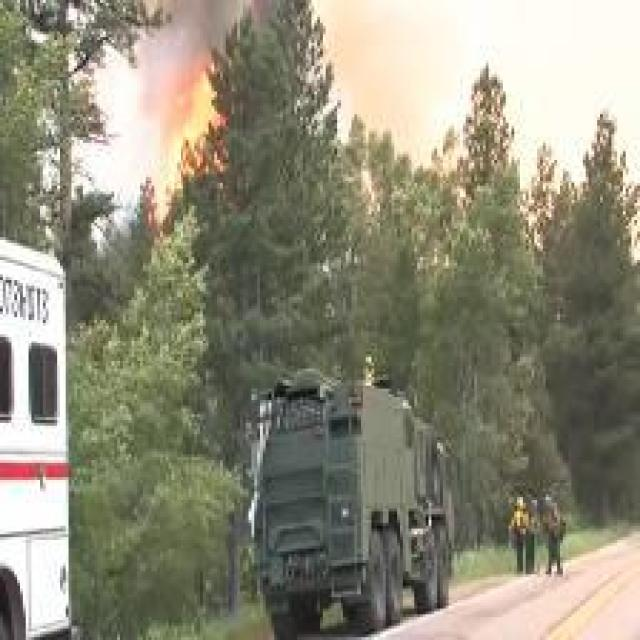fire: (129, 51, 279, 218)
